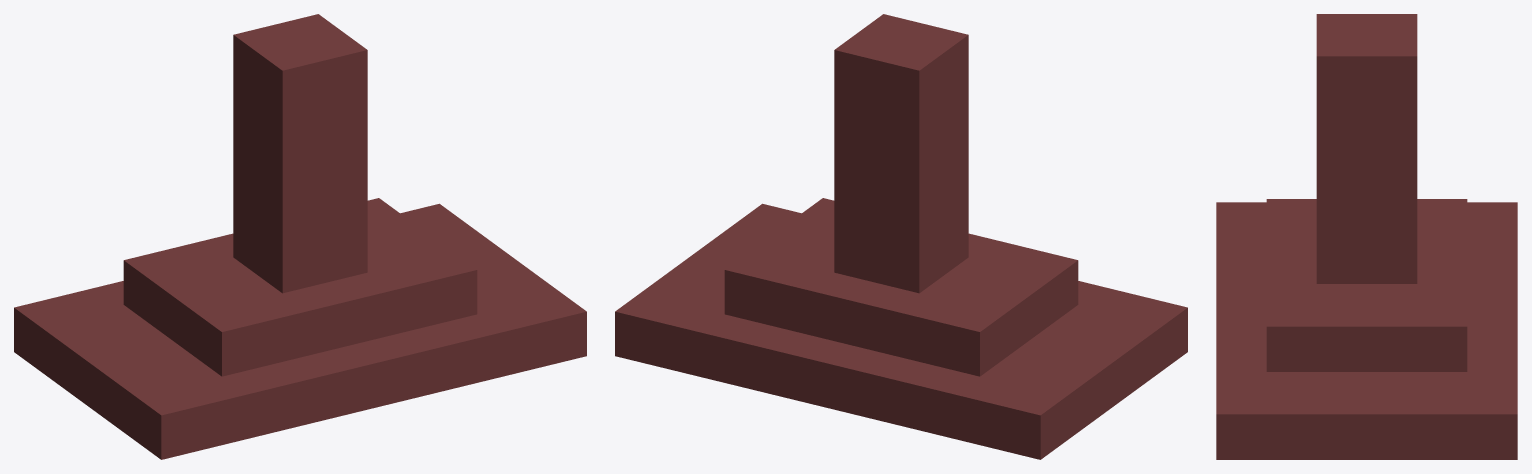
Rendered from HeadOfAWomanStand.fbx.
The picture shows the model from 3 angles, left to right: view 1: azimuth 30°, elevation 25°; view 2: azimuth 150°, elevation 25°; view 3: azimuth 270°, elevation 25°; orthographic projection. The views are drawn at different scales.
Visible parts, largest first — view 1: generated; view 2: generated; view 3: generated.
Part boxes in pixels (x1,y1,x2,y2): generated: [14, 14, 586, 459]; generated: [615, 14, 1187, 459]; generated: [1216, 14, 1517, 459].
Size of the model in its own units: 10 by 7 by 6.
